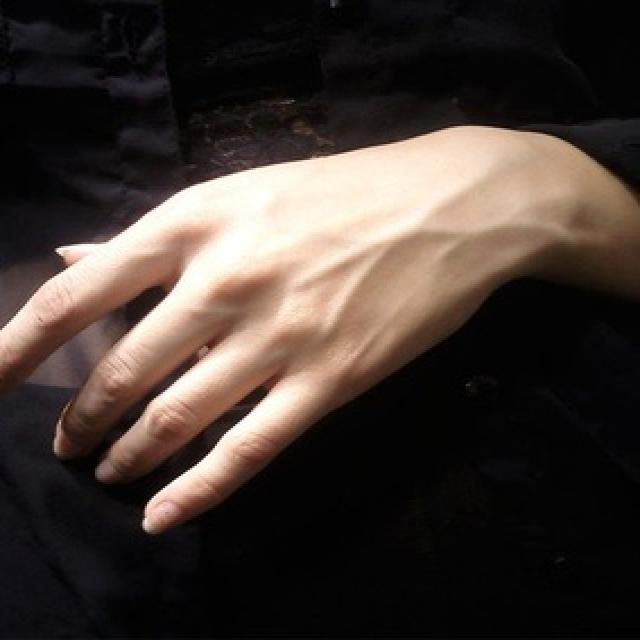no-gloves: (2, 122, 541, 536)
